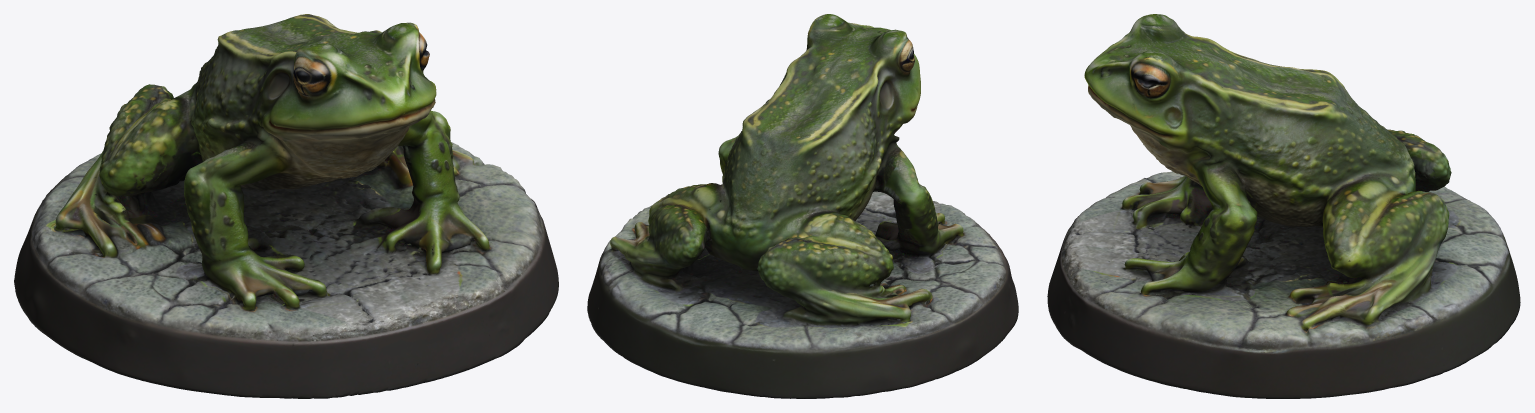
Rendered from frog.glb.
3 views of the same model, side by side, from view 1: azimuth 30°, elevation 25°; view 2: azimuth 150°, elevation 25°; view 3: azimuth 270°, elevation 25° (orthographic). The views are drawn at different scales.
Bounding box in the file's own units: 1.99 × 1.23 × 1.99.
Materials: 1 (1 with a texture image).
